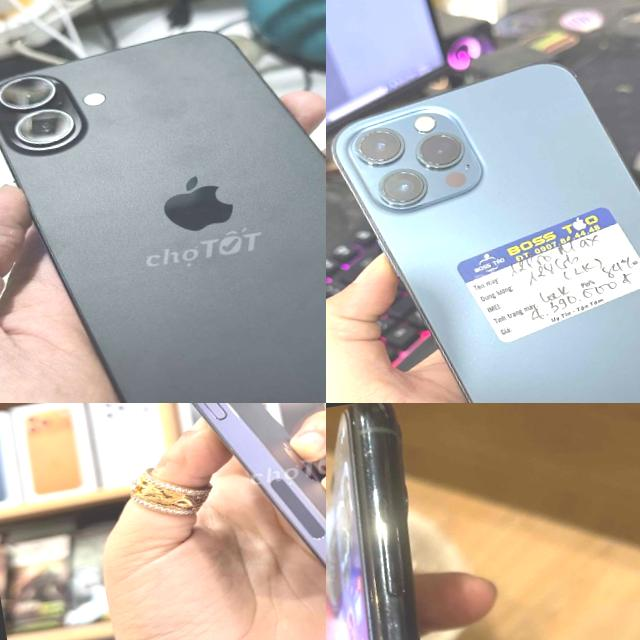gen_11: (326, 403, 418, 640)
gen_12_13: (326, 35, 640, 403)
gen_14: (103, 403, 326, 640)
gen_16: (0, 32, 326, 403)
scratch: (352, 430, 410, 520), (365, 590, 424, 640), (336, 406, 373, 432), (388, 520, 412, 546)
